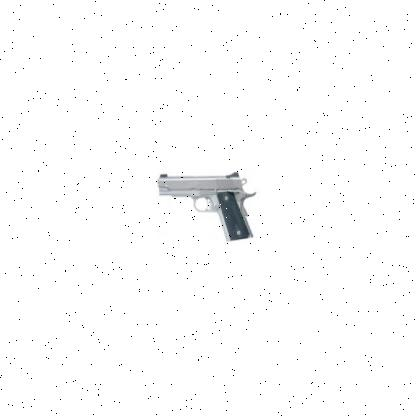gun: (156, 170, 254, 244)
